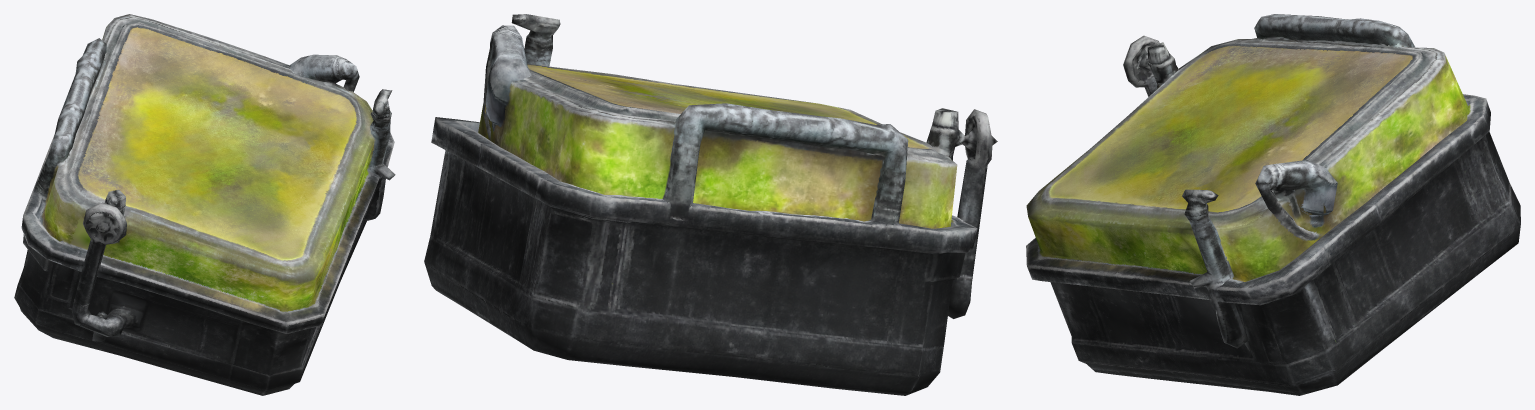
File: algae_bed.glb
The picture shows the model from 3 angles, left to right: view 1: azimuth 30°, elevation 25°; view 2: azimuth 150°, elevation 25°; view 3: azimuth 270°, elevation 25°; orthographic projection. The views are drawn at different scales.
Parts seen in each view (by area): view 1: low; view 2: low; view 3: low.
Boxes of the visible parts, x1,y1,x2,y2 form: low: (14,14,395,395); low: (424,14,997,395); low: (1026,14,1520,395).
Size of the model in its own units: 3 by 2.07 by 2.98.
Materials: 1 (1 with a texture image).
